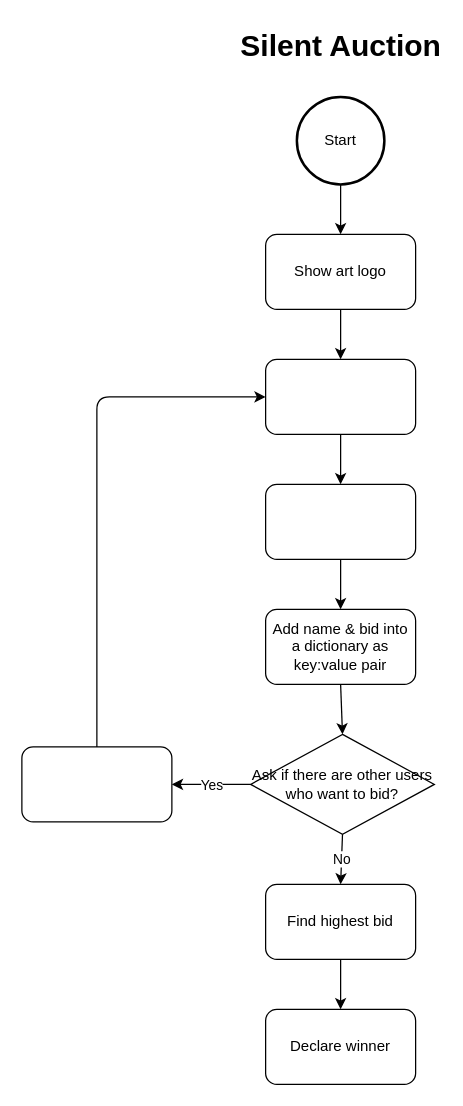
Image size: 463x1106. Some labels were removed from this diagram. The shapes that lost their labels are listed below. From the top down, each one's centre as x and y in pixels, then its label:
[340,396]: Ask for name input
[340,521]: Ask for bid input
[96,784]: Clear screen
